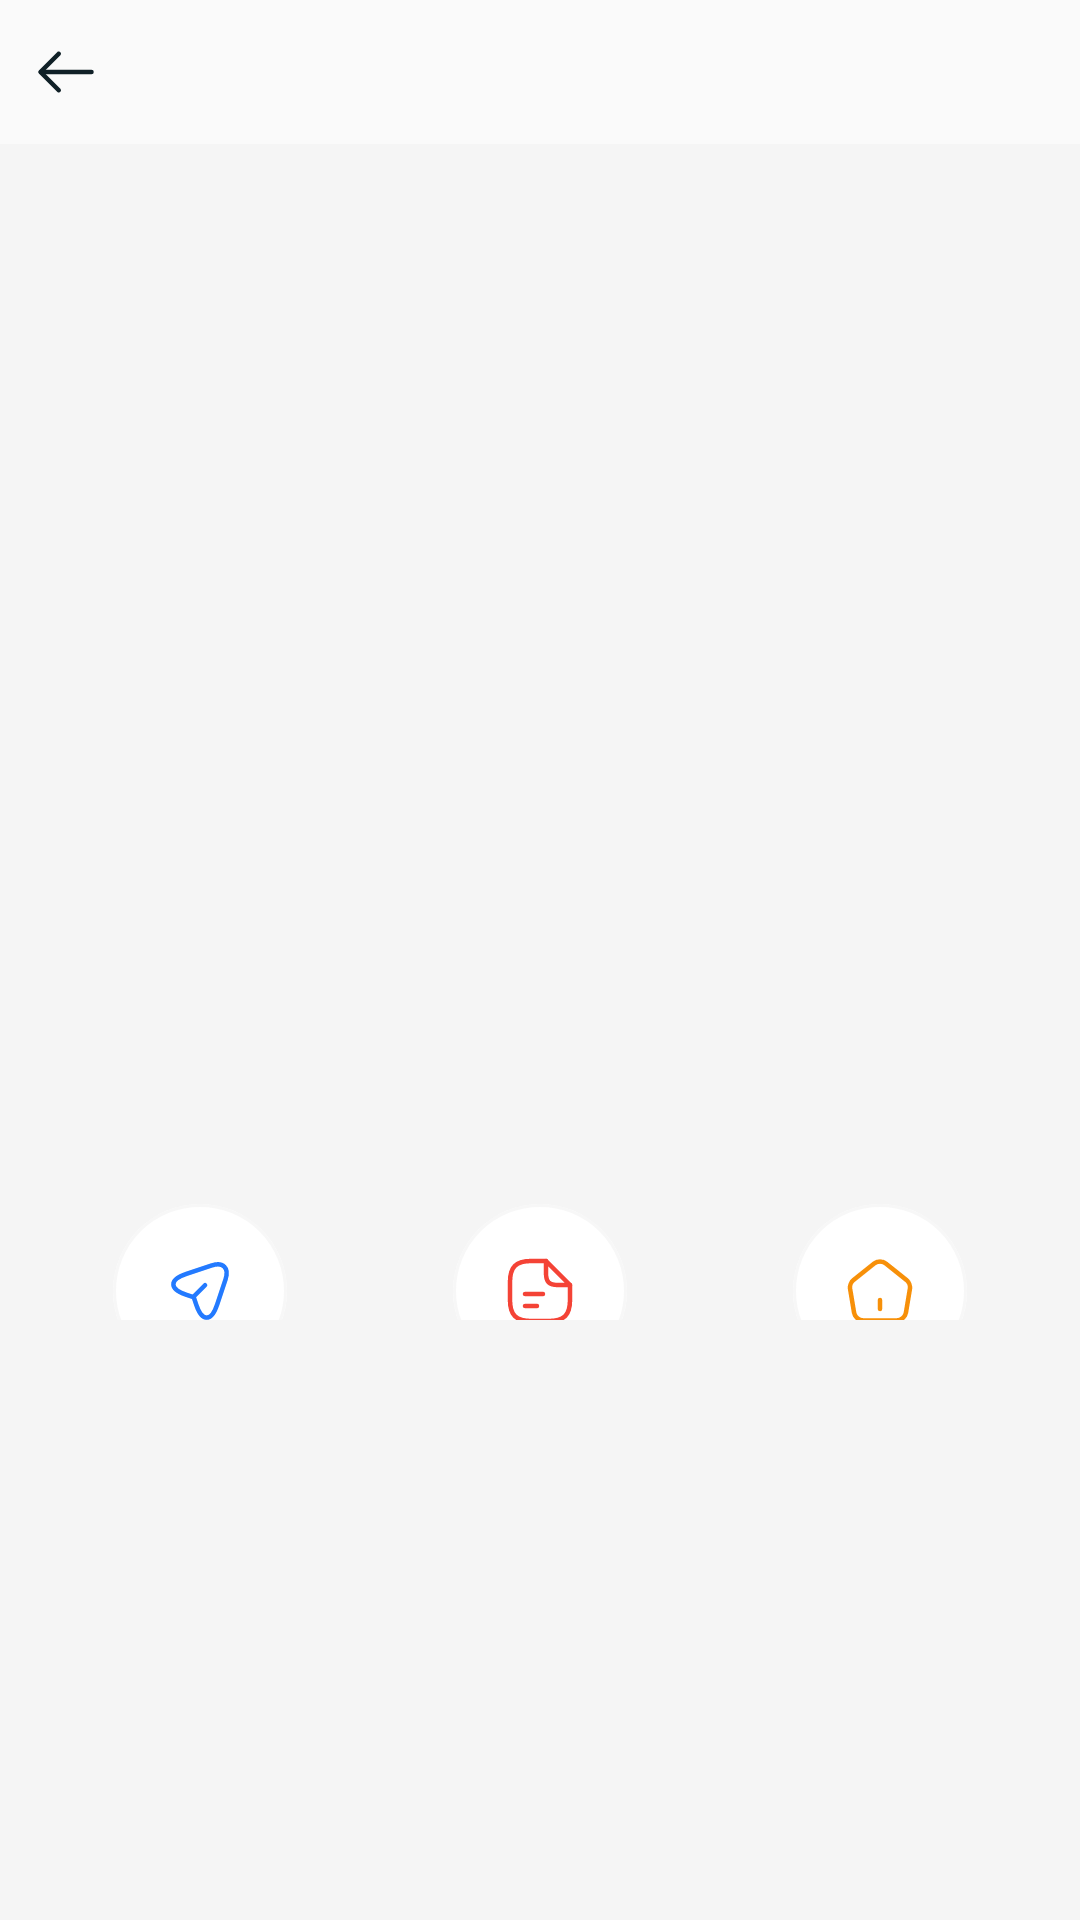

Screen size 1080w x 1920h. Icon name, then its center in pixels as [x,y]:
back all: [66,72]
